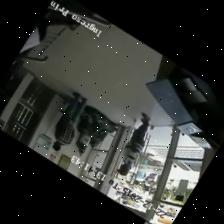person: (15, 9, 78, 60), (52, 92, 86, 150), (118, 112, 149, 174), (144, 172, 156, 190), (134, 169, 145, 184), (151, 175, 159, 190)
